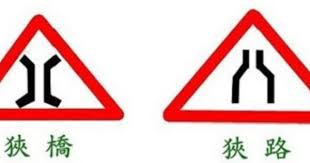Narrow_road: (162, 7, 310, 123)
